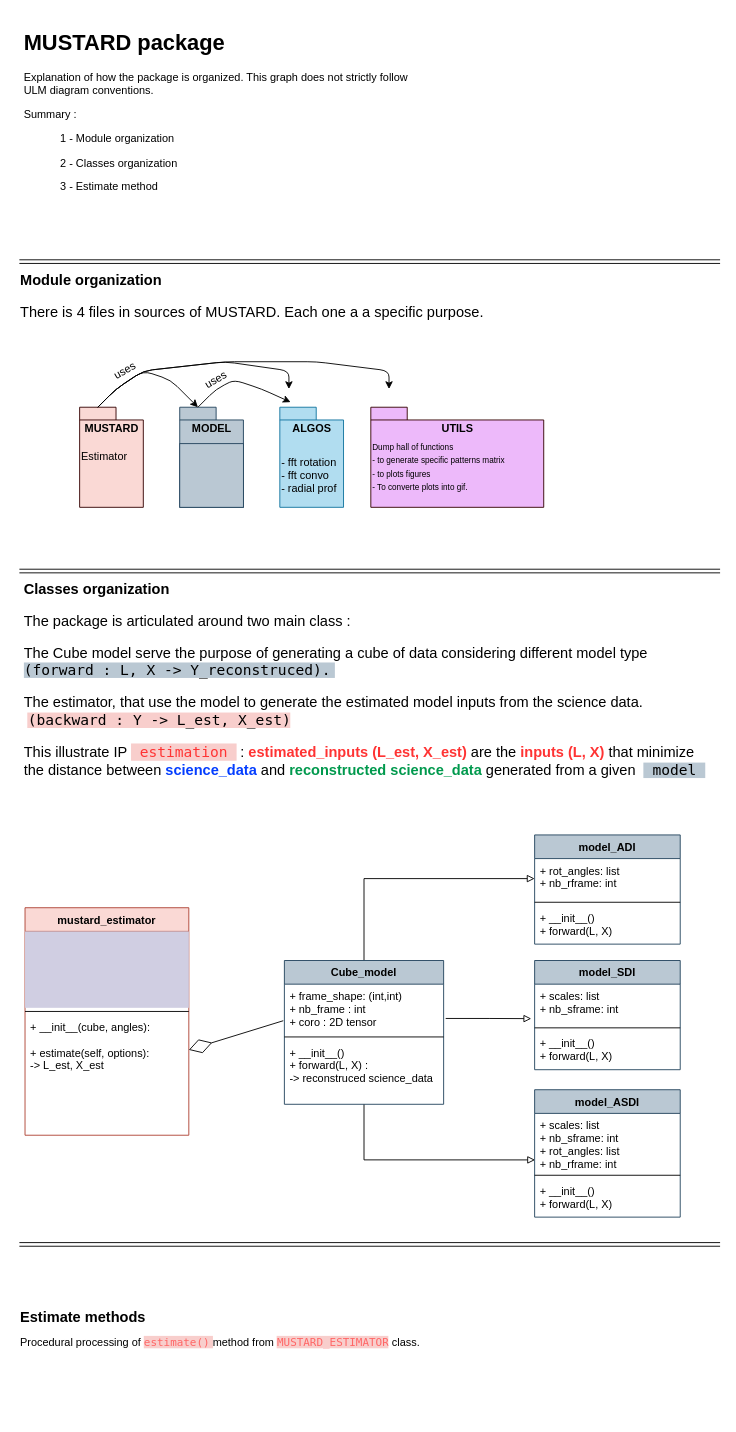
The diagram is 736 pixels wide and 1432 high, and some of its shapes have lost their labels. Here are the shapes that lost their labels. From the top down, the centre of each, then its label:
the point at 211,475: Models : - ADI - SDI - ASDI
the point at 106,969: + science_data: 3D/4D cube + angles / scales : list + options ...
